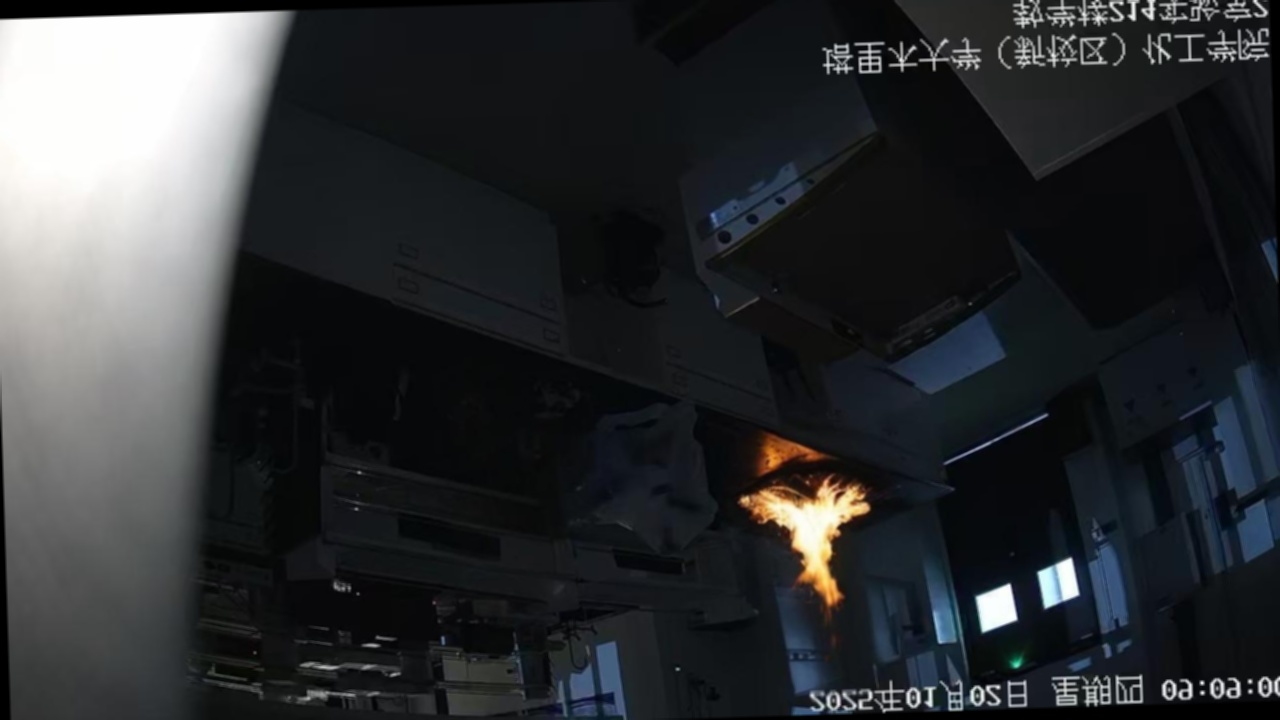fire: (718, 431, 914, 649)
